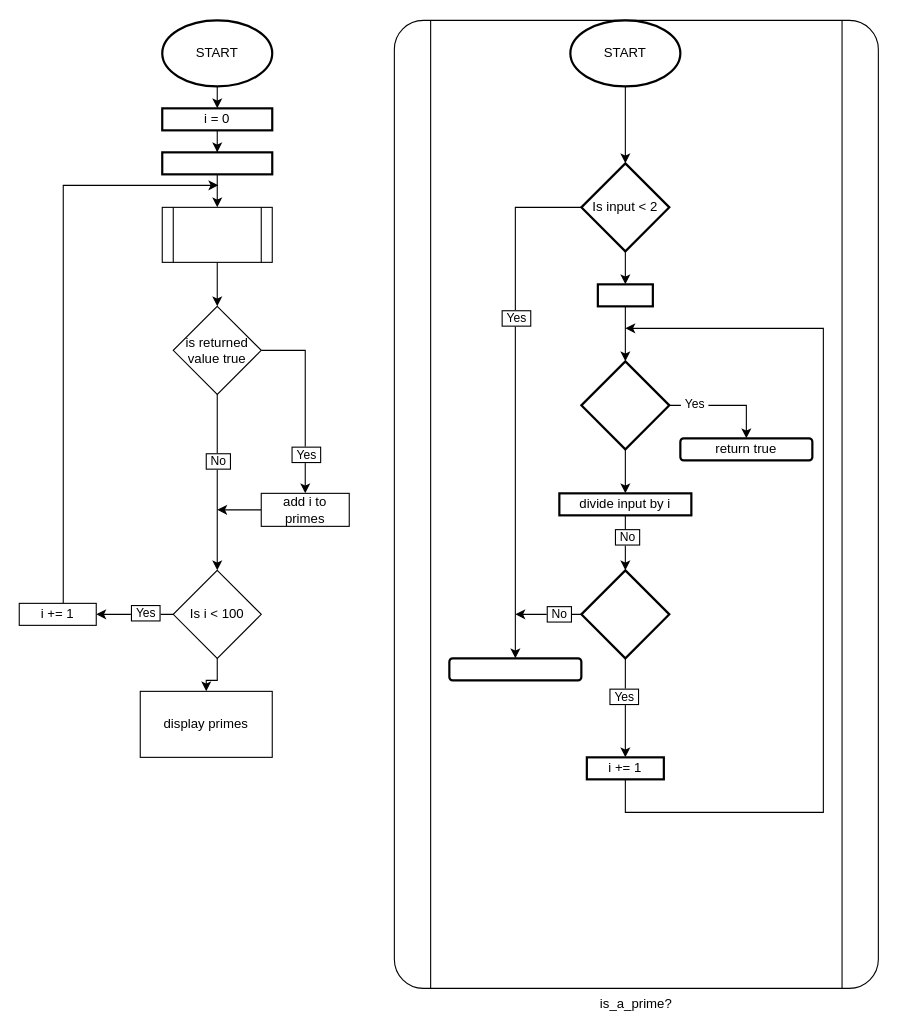
Some shapes in this 898 by 1030 pixel diagram are drawn without their labels. The centre of each missing label's shape, as x and y in pixels:
i = 2: point (624, 295)
is i >= input: point (625, 405)
is there a remainder: point (625, 614)
is_a_prime?(i): point (216, 234)
primes = []: point (217, 163)
return false: point (515, 669)
